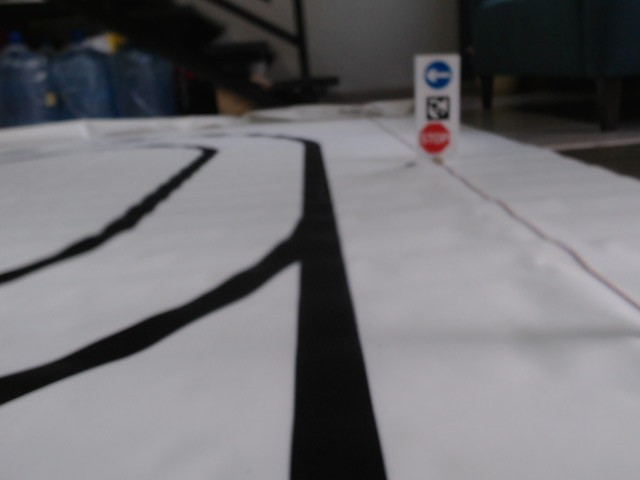Stop: (418, 122, 450, 153)
